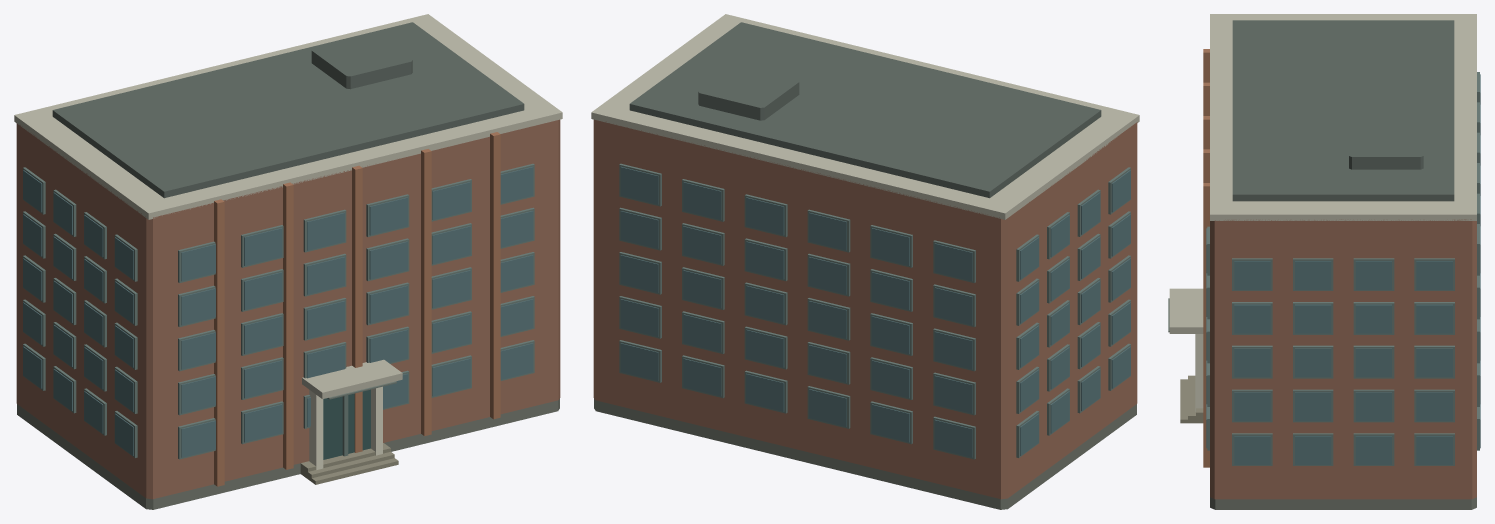
3 views of the same model, side by side, from view 1: azimuth 30°, elevation 25°; view 2: azimuth 150°, elevation 25°; view 3: azimuth 270°, elevation 25° (orthographic).
Visible parts, largest first — view 1: form, glaze, relief, glowing; view 2: form, glaze, relief, glowing; view 3: form, glaze, relief, glowing.
Boxes of the visible parts, x1,y1,x2,y2 form: form: (14,14,562,509); glaze: (23,167,533,459); relief: (23,163,534,469); glowing: (84,211,533,379); form: (591,14,1139,509); glaze: (620,166,1130,455); relief: (619,163,1130,459); glowing: (746,281,1100,457); form: (1169,14,1476,509); glaze: (1206,74,1480,464); relief: (1168,72,1479,465); glowing: (1206,273,1391,448).
Size of the model in its own units: 16.25 by 11.71 by 10.54.
